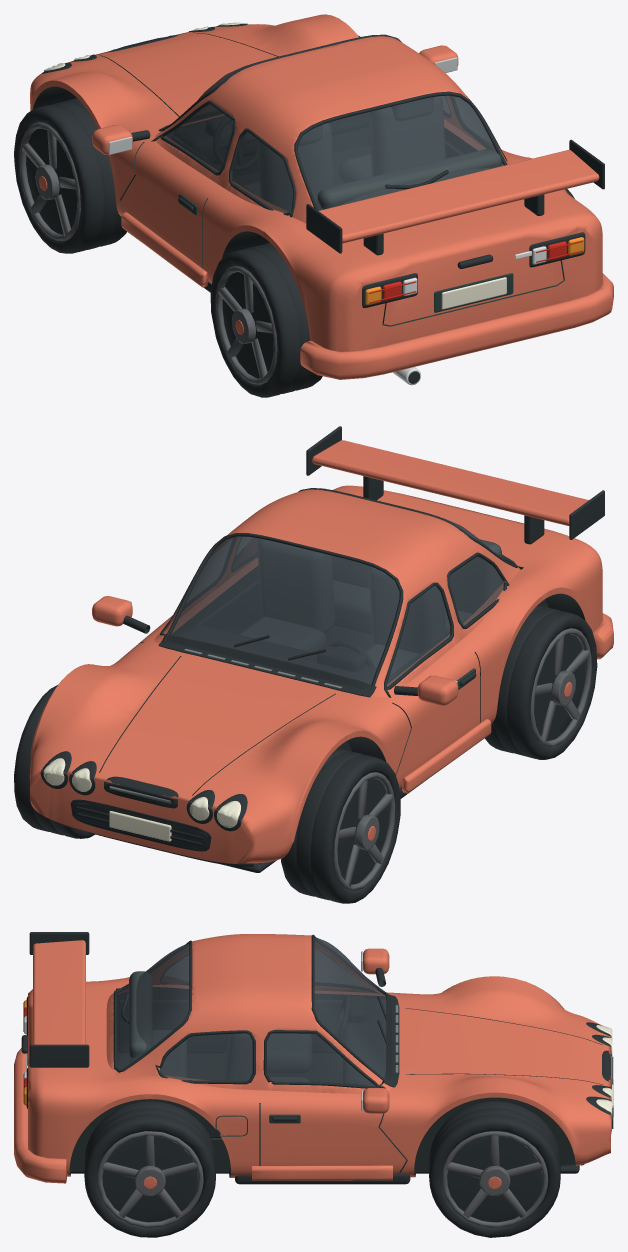
The model's file is hibari_lod1.fbx.
The picture shows the model from 3 angles, top to bottom: view 1: azimuth 30°, elevation 25°; view 2: azimuth 150°, elevation 25°; view 3: azimuth 270°, elevation 25°; orthographic projection. The views are drawn at different scales.
Parts seen in each view (by area): view 1: Body, Wheel_FL_Mesh, Wheel_RL_Mesh; view 2: Body, Wheel_FL_Mesh, Wheel_RL_Mesh, Wheel_FR_Mesh; view 3: Body, Wheel_RR_Mesh, Wheel_FR_Mesh.
Boxes of the visible parts, x1,y1,x2,y2 form: Body: [30, 14, 613, 385]; Wheel_FL_Mesh: [14, 98, 126, 253]; Wheel_RL_Mesh: [210, 243, 322, 397]; Body: [30, 426, 613, 872]; Wheel_FL_Mesh: [281, 748, 400, 903]; Wheel_RL_Mesh: [485, 605, 597, 759]; Wheel_FR_Mesh: [14, 685, 95, 838]; Body: [14, 932, 613, 1184]; Wheel_RR_Mesh: [84, 1101, 215, 1237]; Wheel_FR_Mesh: [429, 1101, 560, 1237].
Bounding box in the file's own units: 230 × 148 × 383.
